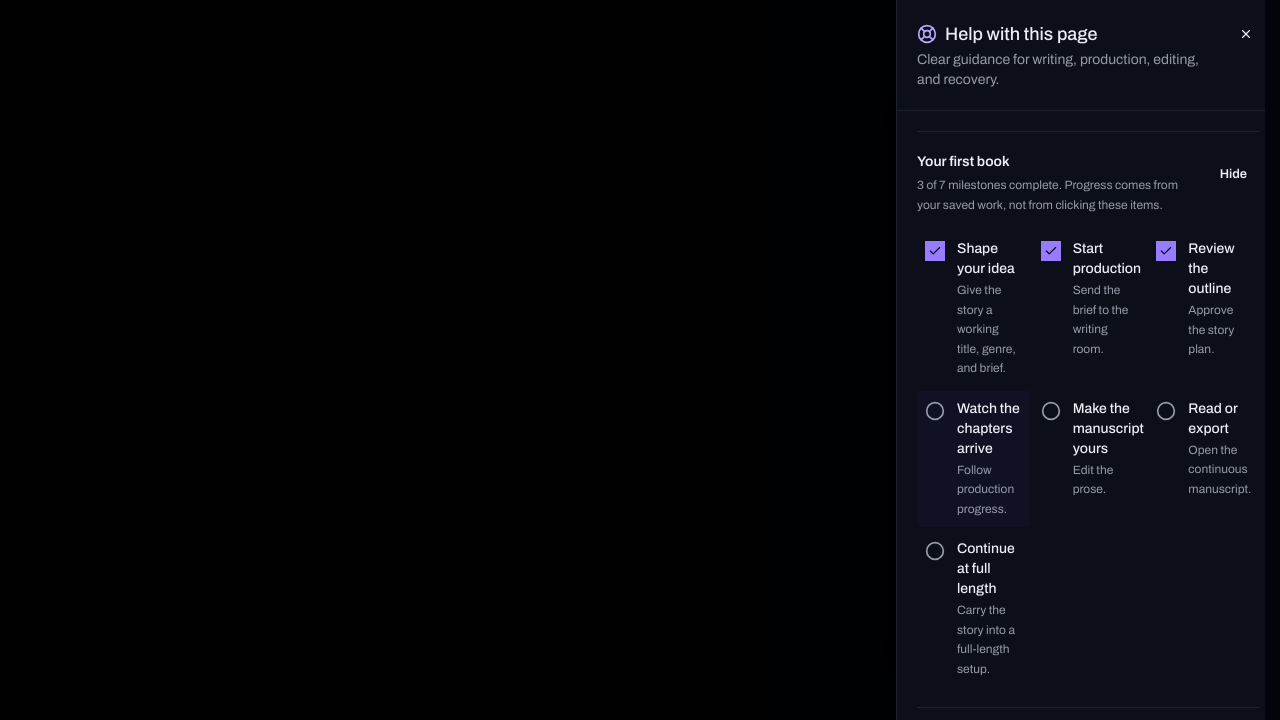
Test: StudioHelp › persists checklist dismissal without blocking the help topics
Expected: the text "3 of 7 milestones complete" is shown, 917,176 -> 1191,215
What coordinates should you click on to do the following:
click the button "Hide"
I would click on:
 (1233, 174)
Its box is 1207,152 -> 1260,196.
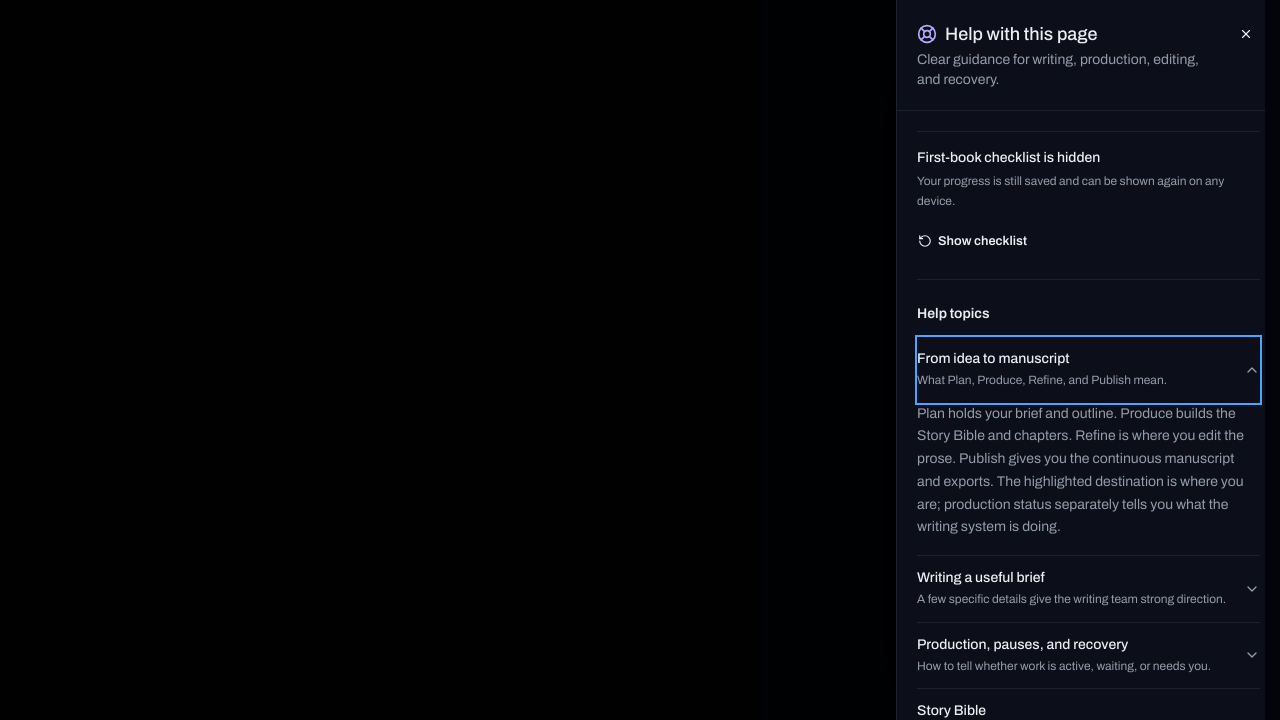
Expected: the text "First-book checklist is hidden" is shown, 917,150 -> 1100,165
Expected: the heading "Help topics" is shown, 917,306 -> 990,321
